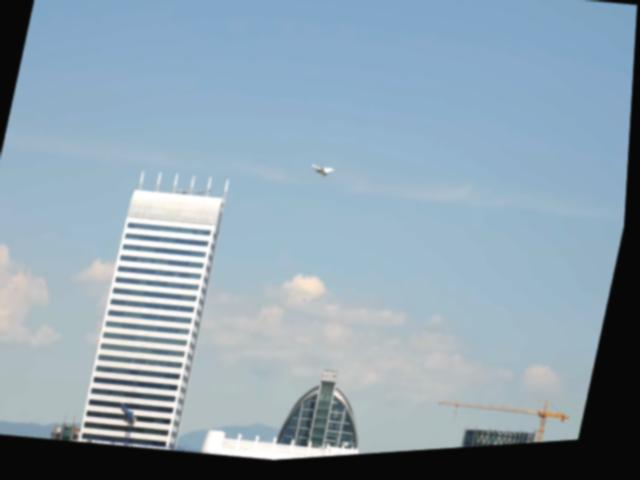plane: (309, 163, 338, 184)
